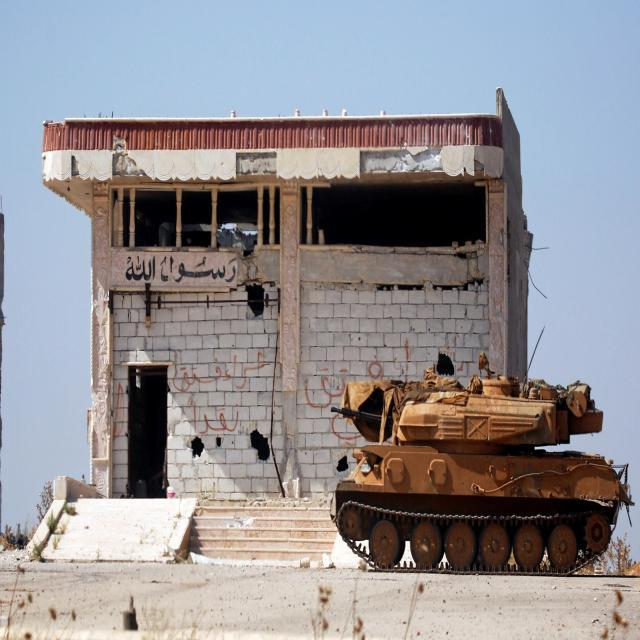MIL_MBT: (317, 342, 629, 596)
